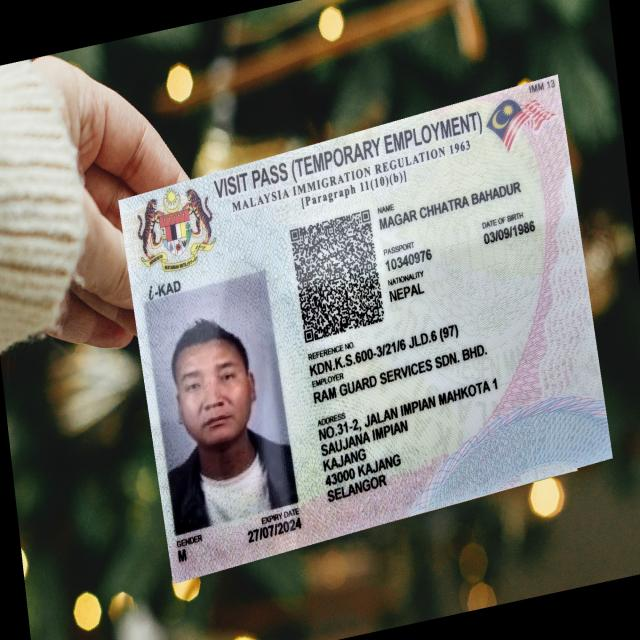ikad-temp: (117, 73, 614, 584)
